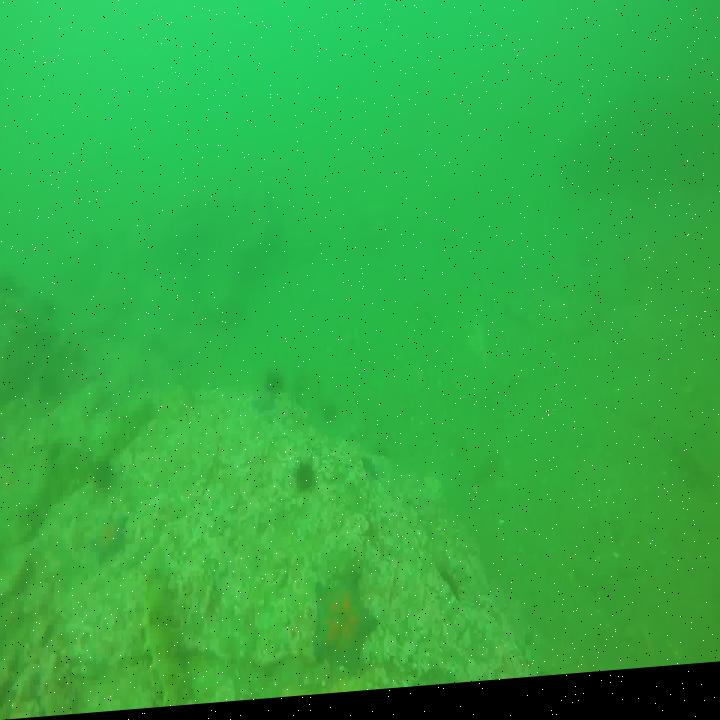echinus: (296, 469, 313, 501), (96, 459, 114, 489), (269, 376, 290, 398)
holothurian: (137, 577, 196, 711)
starfish: (313, 571, 373, 684), (89, 513, 129, 566), (252, 399, 279, 422)
